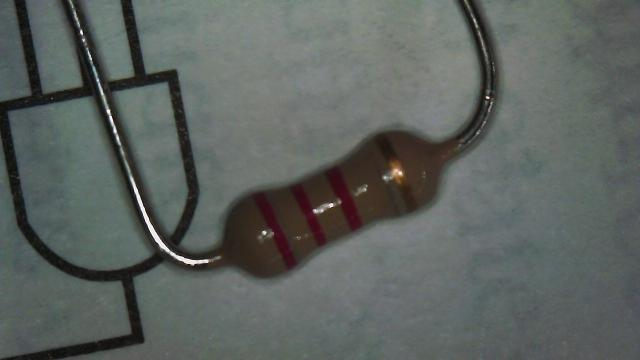gold: (377, 135, 416, 212)
red: (254, 192, 296, 268), (326, 166, 362, 231), (292, 188, 327, 241)
resistor: (187, 97, 479, 311)
